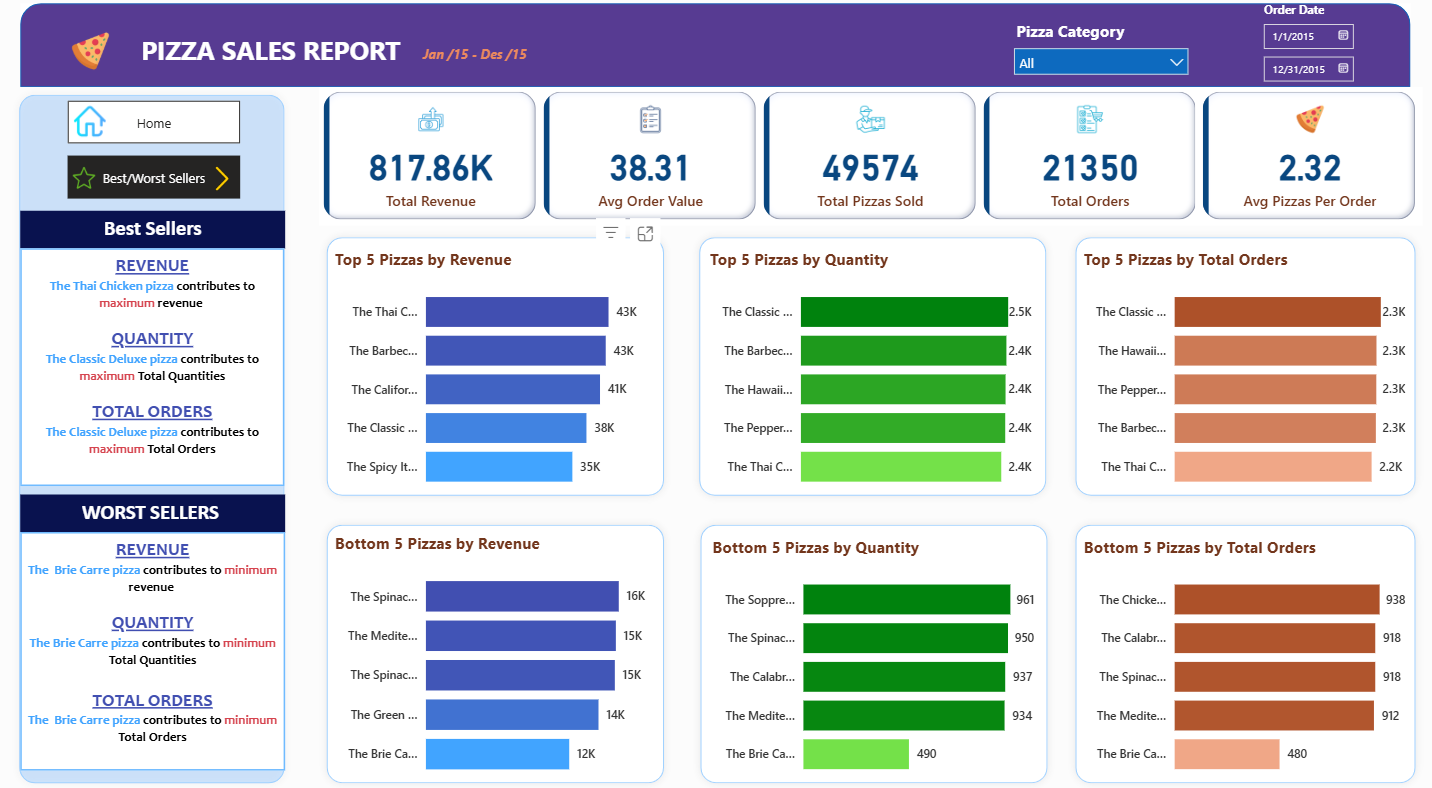

This screenshot's page, from the dashboard's own definition file:
{"tool":"powerbi","page":{"name":"Best/Worst Sellers","canvas":[1500,820],"ordinal":1},"visuals":[{"type":"cardVisual","fields":{"Data":["pizza_sales.Total Revenue","pizza_sales.Avg Order Value","pizza_sales.Total Pizzas Sold","pizza_sales.Total Orders","pizza_sales.Avg Pizzas Per Order"]},"box":[335.7,92.9,1140,142.9],"z":0},{"type":"shape","box":[27.5,6.2,1452.5,86.2],"z":1000},{"type":"textbox","box":[601.6,13.9,298,48.7],"z":2000},{"type":"textbox","box":[688.6,57.1,122.9,32.9],"z":3000},{"type":"image","box":[543.1,22.3,85,40.4],"z":4000},{"type":"shape","box":[335.7,240,364.3,282.9],"z":5000},{"type":"shape","box":[18.6,92.9,290,727.1],"z":6000},{"type":"textbox","box":[26.7,221.1,273.3,38.9],"z":7000},{"type":"textbox","box":[27.1,260,272.9,245.7],"z":8000},{"type":"textbox","box":[26.7,513.3,273.3,38.9],"z":9000},{"type":"textbox","box":[26.7,552.2,273.3,246.7],"z":10000},{"type":"slicer","fields":{"Values":["pizza_sales.pizza_category"]},"box":[992.9,14.3,201.4,60],"z":11000},{"type":"slicer","fields":{"Values":["pizza_sales.order_date"]},"box":[1228.6,5.7,221.4,91.4],"z":12000},{"type":"shape","box":[720,240,374.3,282.9],"z":13000},{"type":"shape","box":[1108.6,240,367.1,282.9],"z":14000},{"type":"shape","box":[335.7,537.1,364.3,282.9],"z":15000},{"type":"shape","box":[722,537.1,374.3,282.9],"z":16000},{"type":"shape","box":[1108.6,537.1,367.1,282.9],"z":17000},{"type":"barChart","title":"Top 5 Pizzas by Revenue","fields":{"Category":["pizza_sales.pizza_name"],"Y":["pizza_sales.Total Revenue"]},"box":[346.7,258.9,342.2,263.3],"z":18000},{"type":"barChart","title":"Bottom 5 Pizzas by Revenue","fields":{"Category":["pizza_sales.pizza_name"],"Y":["pizza_sales.Total Revenue"]},"box":[346.7,552.2,342.2,267.8],"z":19000},{"type":"barChart","title":"Top 5 Pizzas by Quantity","fields":{"Category":["pizza_sales.pizza_name"],"Y":["pizza_sales.Total Pizzas Sold"]},"box":[734.4,258.9,342.2,263.3],"z":20000},{"type":"barChart","title":"Bottom 5 Pizzas by Quantity","fields":{"Category":["pizza_sales.pizza_name"],"Y":["pizza_sales.Total Pizzas Sold"]},"box":[737.8,556.7,342.2,263.3],"z":21000},{"type":"barChart","title":"Top 5 Pizzas by Total Orders","fields":{"Category":["pizza_sales.pizza_name"],"Y":["pizza_sales.Total Orders"]},"box":[1121.1,260,342.2,263.3],"z":22000},{"type":"barChart","title":"Bottom 5 Pizzas by Total Orders","fields":{"Category":["pizza_sales.pizza_name"],"Y":["pizza_sales.Total Orders"]},"box":[1121.1,556.7,342.2,263.3],"z":23000},{"type":"pageNavigator","box":[75.7,164.3,178.6,44.3],"z":23001},{"type":"pageNavigator","box":[75.7,107.1,178.6,44.3],"z":23002},{"type":"image","box":[217.1,170,37.1,34.3],"z":23003},{"type":"image","box":[75.7,107.1,45.7,42.9],"z":23004},{"type":"image","box":[64.3,170,57.1,32.9],"z":23005}]}

Visuals, with their boxes in screenshot pixels (x1, y1, x2, y2), scaled from the page's 1500x820 canvas onto the 1432x788 screenshot:
cardVisual - pizza_sales.Total Revenue x pizza_sales.Avg Order Value: x1=320, y1=89, x2=1409, y2=227
shape: x1=26, y1=6, x2=1413, y2=89
textbox: x1=574, y1=13, x2=859, y2=60
textbox: x1=657, y1=55, x2=775, y2=86
image: x1=518, y1=21, x2=600, y2=60
shape: x1=320, y1=231, x2=668, y2=502
shape: x1=18, y1=89, x2=295, y2=787
textbox: x1=25, y1=212, x2=286, y2=250
textbox: x1=26, y1=250, x2=286, y2=486
textbox: x1=25, y1=493, x2=286, y2=531
textbox: x1=25, y1=531, x2=286, y2=768
slicer - pizza_sales.pizza_category: x1=948, y1=14, x2=1140, y2=71
slicer - pizza_sales.order_date: x1=1173, y1=5, x2=1384, y2=93
shape: x1=687, y1=231, x2=1045, y2=502
shape: x1=1058, y1=231, x2=1409, y2=502
shape: x1=320, y1=516, x2=668, y2=787
shape: x1=689, y1=516, x2=1047, y2=787
shape: x1=1058, y1=516, x2=1409, y2=787
"Top 5 Pizzas by Revenue" barChart: x1=331, y1=249, x2=658, y2=502
"Bottom 5 Pizzas by Revenue" barChart: x1=331, y1=531, x2=658, y2=787
"Top 5 Pizzas by Quantity" barChart: x1=701, y1=249, x2=1028, y2=502
"Bottom 5 Pizzas by Quantity" barChart: x1=704, y1=535, x2=1031, y2=787
"Top 5 Pizzas by Total Orders" barChart: x1=1070, y1=250, x2=1397, y2=503
"Bottom 5 Pizzas by Total Orders" barChart: x1=1070, y1=535, x2=1397, y2=787
pageNavigator: x1=72, y1=158, x2=243, y2=200
pageNavigator: x1=72, y1=103, x2=243, y2=145
image: x1=207, y1=163, x2=243, y2=196
image: x1=72, y1=103, x2=116, y2=144
image: x1=61, y1=163, x2=116, y2=195
